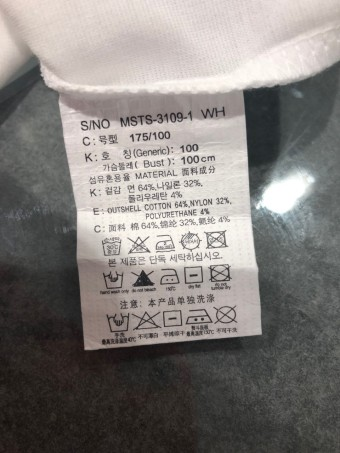ER_flat_dry: (183, 264, 204, 285), (161, 308, 183, 328)
ER_hand_wash: (106, 309, 130, 333), (101, 269, 125, 290)
ER_iron_low_temp: (185, 306, 214, 325), (159, 267, 181, 286)
ER_no_bleach: (133, 311, 160, 332), (130, 268, 155, 288)
ER_no_dry_clean: (214, 304, 238, 325)
ER_no_tumble_dry: (208, 263, 232, 283)
KR_flat_dry_in_shade: (178, 230, 202, 251)
KR_hand_wash_30_neutral: (100, 236, 122, 257)
KR_iron_medium_temp_with_cloth: (153, 232, 177, 254)
KR_no_bleach: (128, 234, 150, 255)
KR_no_tumble_dry: (204, 229, 228, 250)
